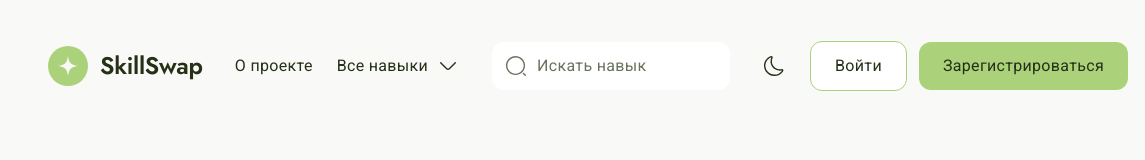
Test case: Header › гость › Войти ведёт на нужную страницу
Click the button "Войти" at point(859, 66), box [810,41,907,91]
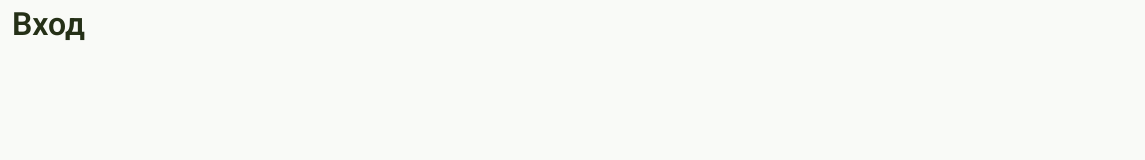
expect the heading "Вход" is shown: met, box [12,5,85,43]
